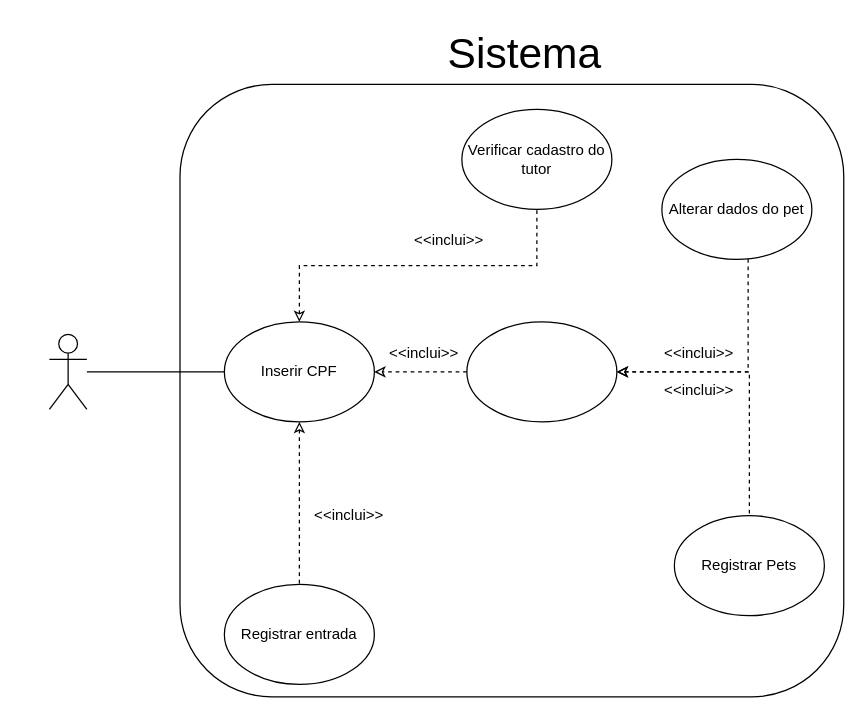
This 866x719 diagram has some shape labels left out. Each missing label, with the centre of its shape:
"Consultar Pets" goes at pixel 541 371.
"Recepcionista" goes at pixel 67 371.
